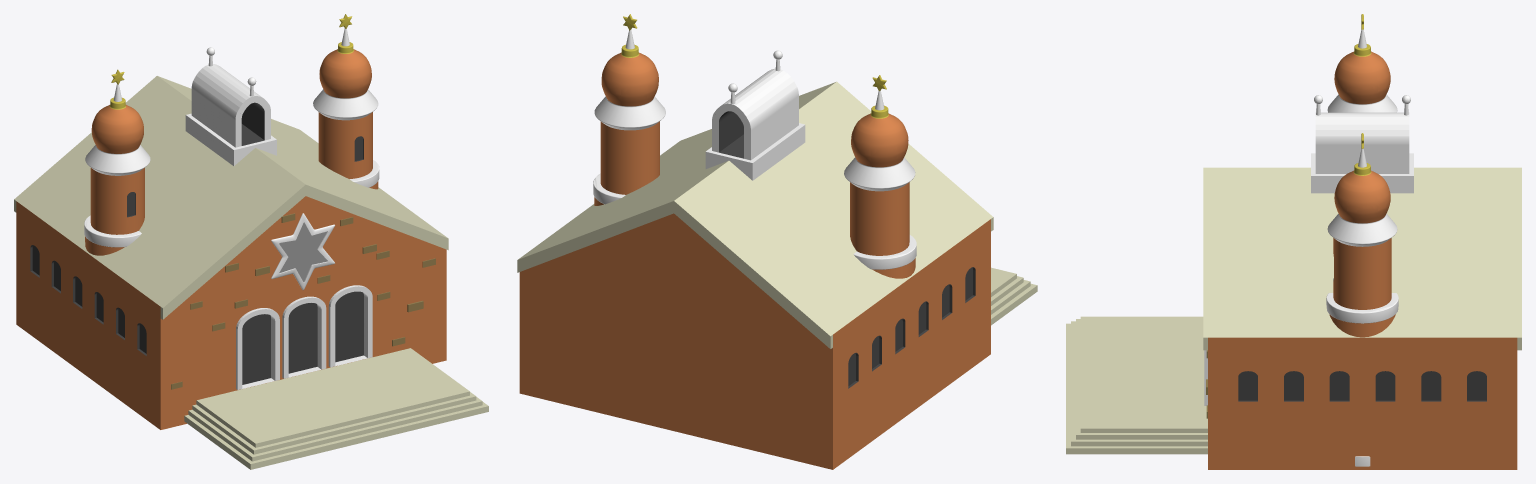
Rendered from CHURCH.fbx.
The picture shows the model from 3 angles, left to right: view 1: azimuth 30°, elevation 25°; view 2: azimuth 150°, elevation 25°; view 3: azimuth 270°, elevation 25°; orthographic projection. The views are drawn at different scales.
Parts seen in each view (by area): view 1: Cube.009, Cube, Cylinder, Cylinder.001, Cylinder.002; view 2: Cube.009, Cylinder, Cylinder.001, Cube; view 3: Cube.009, Cube, Cylinder.001, Cylinder.
Part boxes in pixels (x1,y1,x2,y2): Cube.009: [14, 47, 448, 429]; Cube: [184, 348, 488, 469]; Cylinder: [84, 69, 150, 255]; Cylinder.001: [313, 14, 379, 189]; Cylinder.002: [271, 213, 335, 290]; Cube.009: [517, 50, 993, 469]; Cylinder: [844, 75, 916, 278]; Cylinder.001: [593, 14, 665, 205]; Cube: [991, 267, 1037, 325]; Cube.009: [1203, 95, 1521, 469]; Cube: [1066, 316, 1207, 454]; Cylinder.001: [1326, 133, 1398, 466]; Cylinder: [1327, 14, 1397, 112].
Size of the model in its own units: 2059 by 2063 by 2647.
